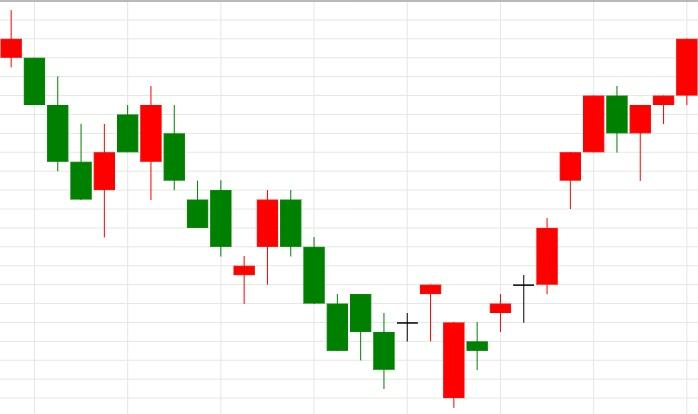bullish_engulfing_rise: (0, 10, 116, 237)
